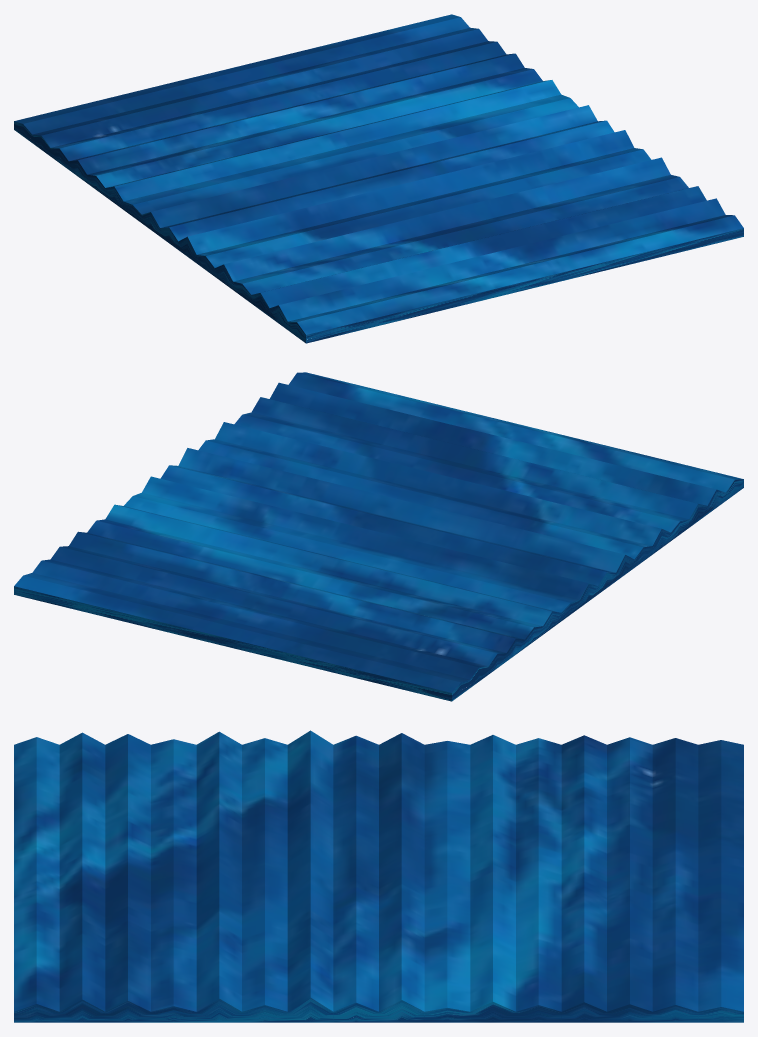
Rendered from Aguas.obj.
The picture shows the model from 3 angles, top to bottom: view 1: azimuth 30°, elevation 25°; view 2: azimuth 150°, elevation 25°; view 3: azimuth 270°, elevation 25°; orthographic projection. The views are drawn at different scales.
Parts seen in each view (by area): view 1: Cube; view 2: Cube; view 3: Cube.
Part boxes in pixels (bbox=[...]): Cube: bbox=[14, 14, 743, 343]; Cube: bbox=[14, 372, 743, 701]; Cube: bbox=[14, 730, 743, 1022].
Bounding box in the file's own units: 7.85 × 0.3439 × 9.07.
1 material, 1 textured.
